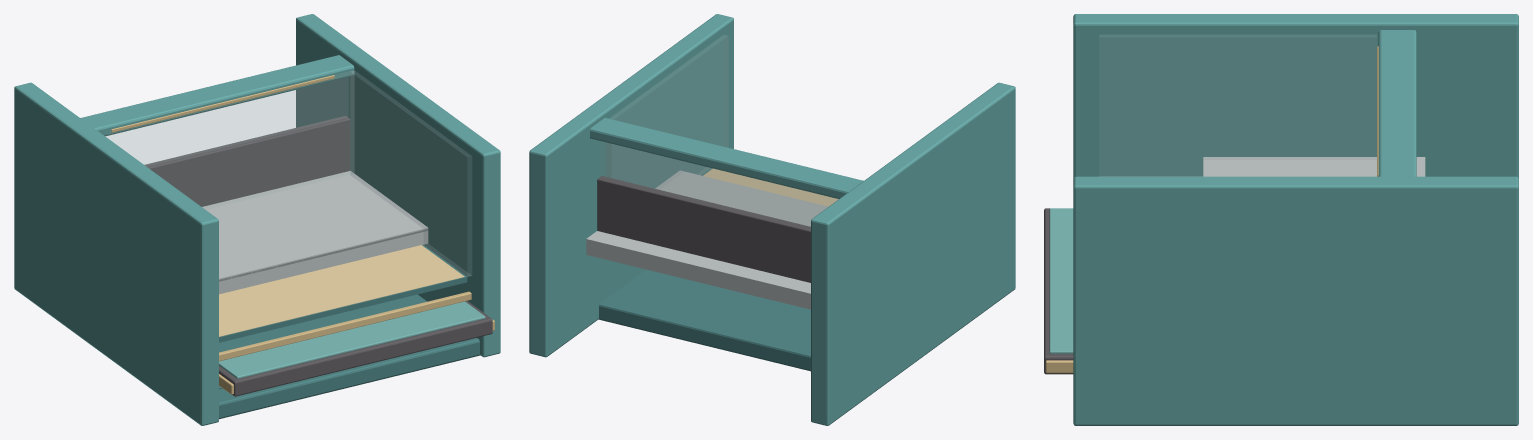
File: cabinet.glb
The picture shows the model from 3 angles, left to right: view 1: azimuth 30°, elevation 25°; view 2: azimuth 150°, elevation 25°; view 3: azimuth 270°, elevation 25°; orthographic projection. The views are drawn at different scales.
Parts seen in each view (by area): view 1: cabinet_left_post, cabinet_right_post, playfield_rear_guard, pusher_body, playfield_right_guard, cabinet_rear_recess, playfield_surface, cabinet_base, cabinet_header, collection_bed, collection_body, collection_rear_lip (+3 smaller); view 2: cabinet_left_post, cabinet_right_post, cabinet_rear_recess, cabinet_base, pusher_body, playfield_rear_guard, playfield_right_guard, cabinet_header, playfield_surface; view 3: cabinet_right_post, cabinet_left_post, playfield_left_guard, cabinet_header, pusher_body, collection_bed, collection_body.
Part boxes in pixels (x1=…): cabinet_left_post: x1=14, y1=82, x2=218, y2=425; cabinet_right_post: x1=296, y1=14, x2=500, y2=357; playfield_rear_guard: x1=105, y1=71, x2=350, y2=208; pusher_body: x1=202, y1=170, x2=428, y2=294; playfield_right_guard: x1=350, y1=71, x2=471, y2=276; cabinet_rear_recess: x1=145, y1=116, x2=350, y2=206; playfield_surface: x1=219, y1=245, x2=464, y2=336; cabinet_base: x1=219, y1=294, x2=480, y2=419; cabinet_header: x1=80, y1=55, x2=354, y2=136; collection_bed: x1=219, y1=301, x2=485, y2=378; collection_body: x1=219, y1=301, x2=492, y2=396; collection_rear_lip: x1=219, y1=291, x2=471, y2=361; cabinet_left_post: x1=811, y1=82, x2=1015, y2=425; cabinet_right_post: x1=529, y1=14, x2=733, y2=357; cabinet_rear_recess: x1=597, y1=176, x2=810, y2=282; cabinet_base: x1=598, y1=269, x2=810, y2=371; pusher_body: x1=586, y1=170, x2=828, y2=309; playfield_rear_guard: x1=600, y1=141, x2=838, y2=227; playfield_right_guard: x1=610, y1=35, x2=728, y2=174; cabinet_header: x1=590, y1=117, x2=863, y2=198; playfield_surface: x1=703, y1=168, x2=838, y2=206; cabinet_right_post: x1=1073, y1=176, x2=1518, y2=425; cabinet_left_post: x1=1073, y1=14, x2=1518, y2=178; playfield_left_guard: x1=1100, y1=35, x2=1376, y2=176; cabinet_header: x1=1378, y1=30, x2=1416, y2=176; pusher_body: x1=1203, y1=157, x2=1425, y2=176; collection_bed: x1=1049, y1=208, x2=1073, y2=353; collection_body: x1=1044, y1=208, x2=1073, y2=374.
Bounding box in the file's own units: 11.82 × 7.68 × 13.7.
